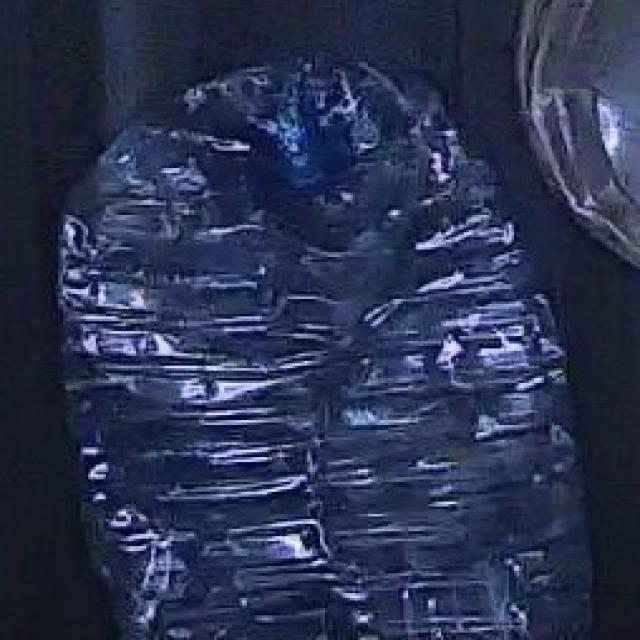plasticbottle: (45, 52, 605, 640)
